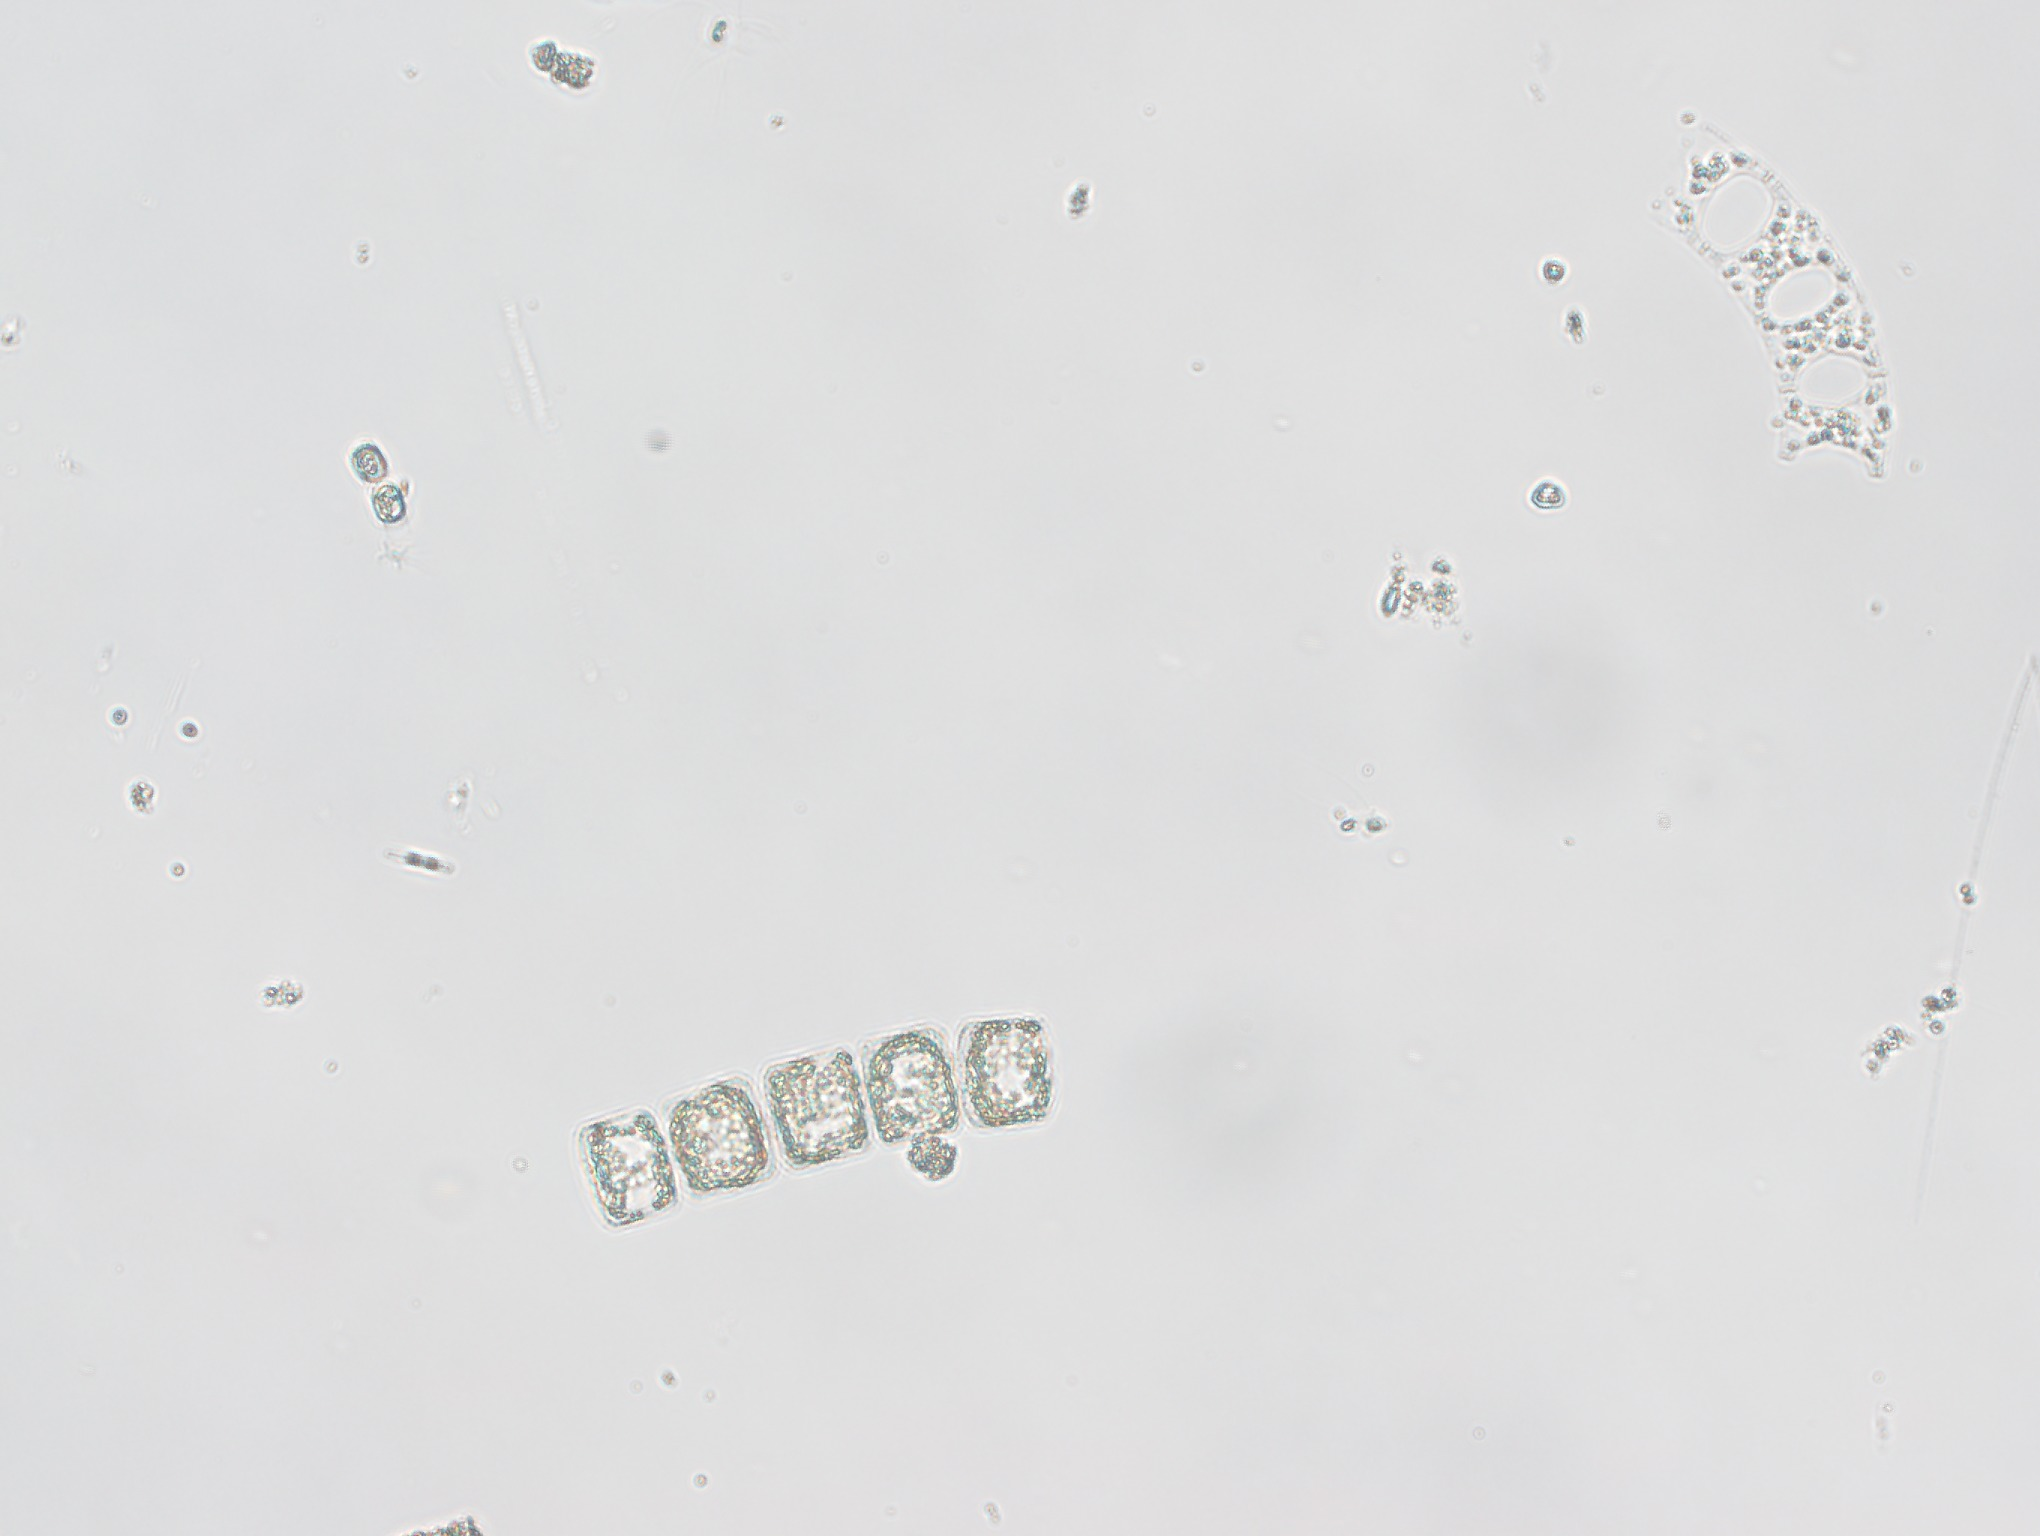detonula pumila: (561, 1007, 1084, 1239)
eucampia: (1635, 102, 1924, 479)
